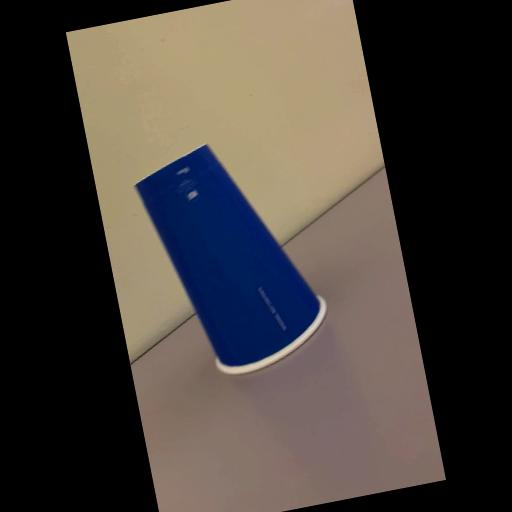lp_paper_cup: (119, 122, 340, 388)
